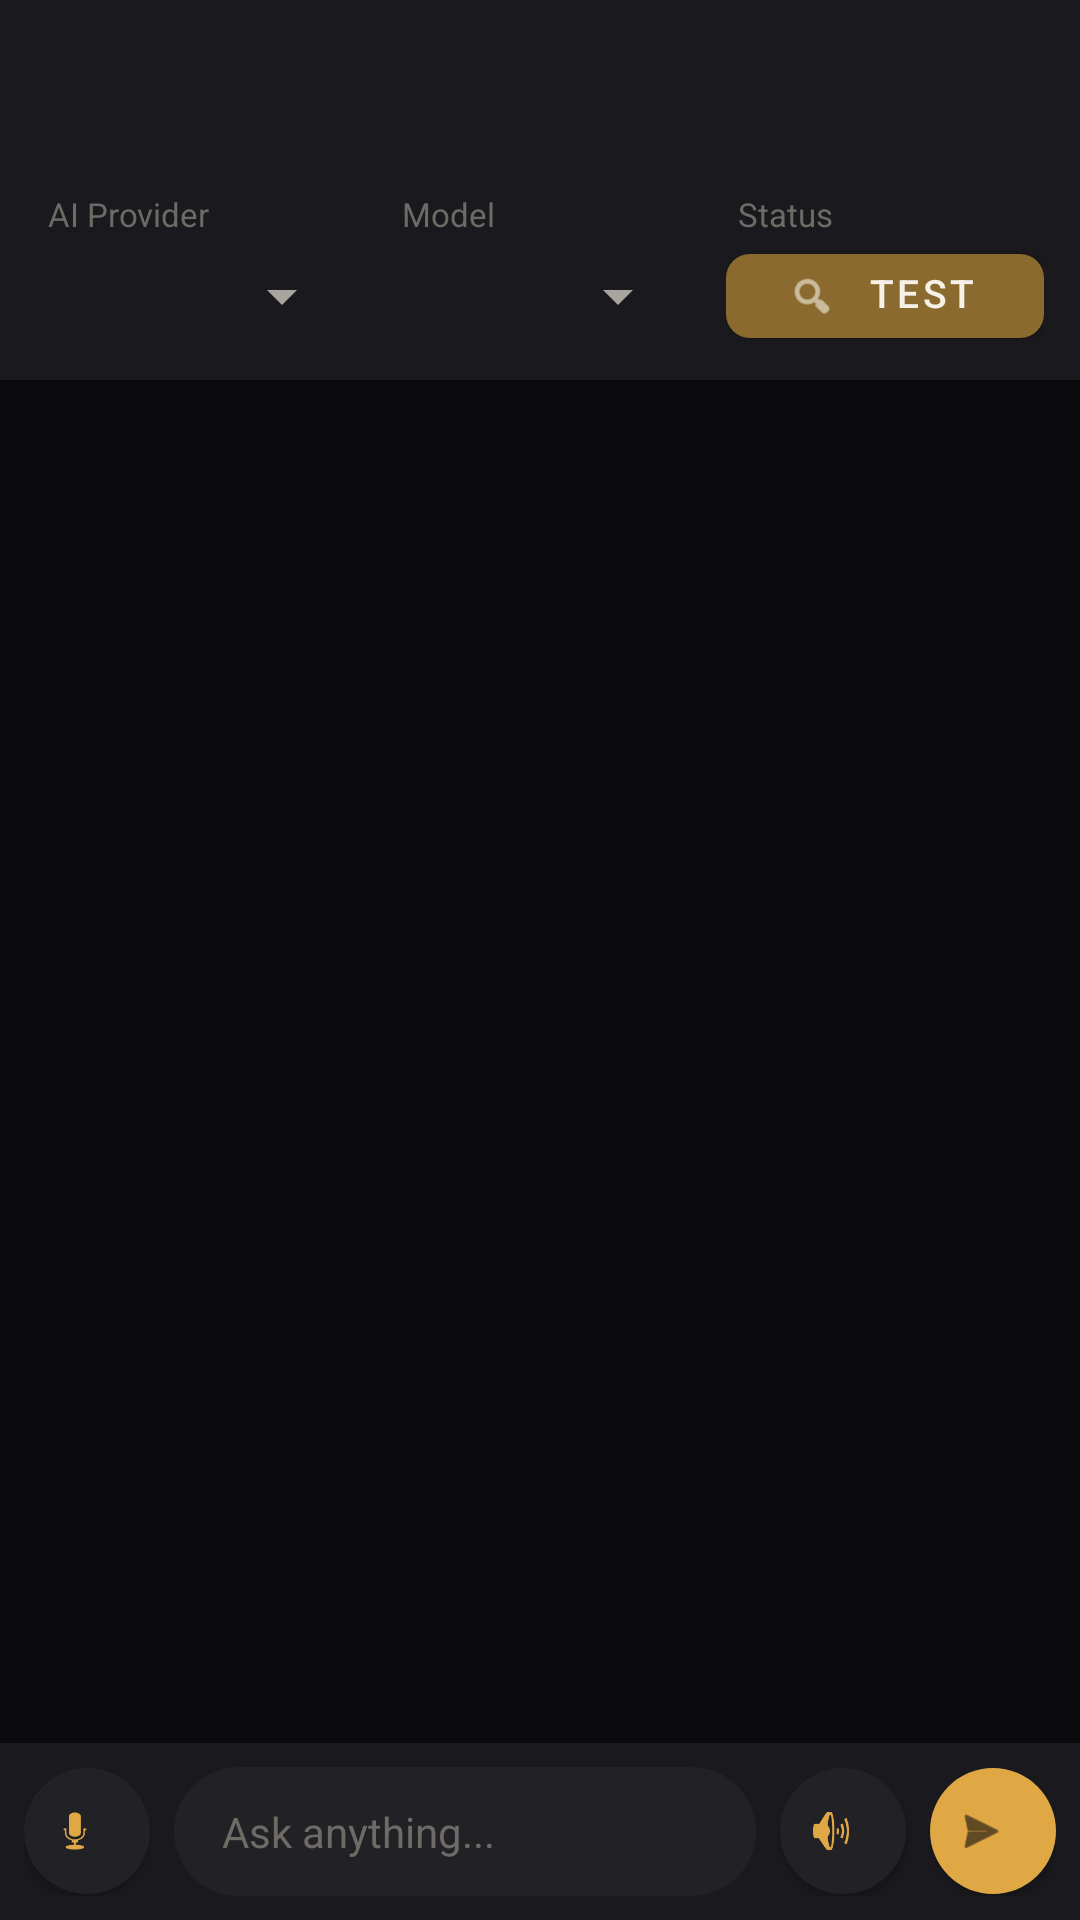

Icons on this 1080px x 1920px Android screen, each with the point to tap as point (x, y):
send: point (993, 1831)
Toggle read aloud: point (843, 1831)
Voice conversation: point (75, 1831)
